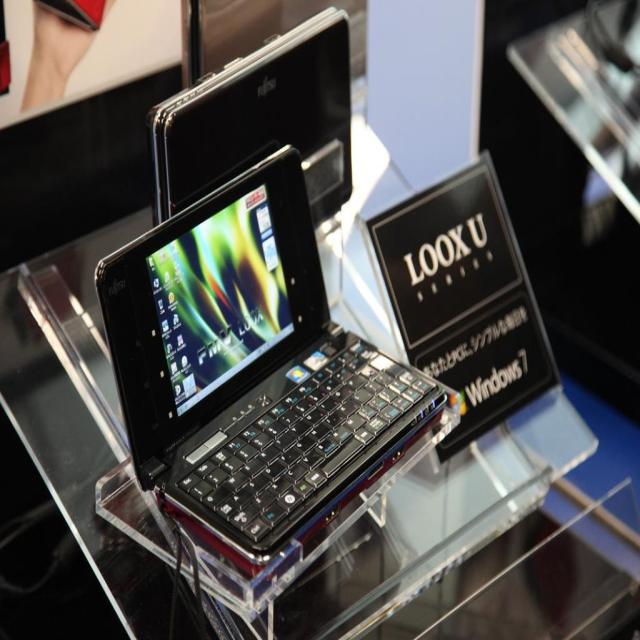laptop: (102, 149, 430, 555)
